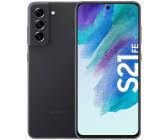Smartphone: (77, 3, 141, 136), (28, 3, 77, 136)
